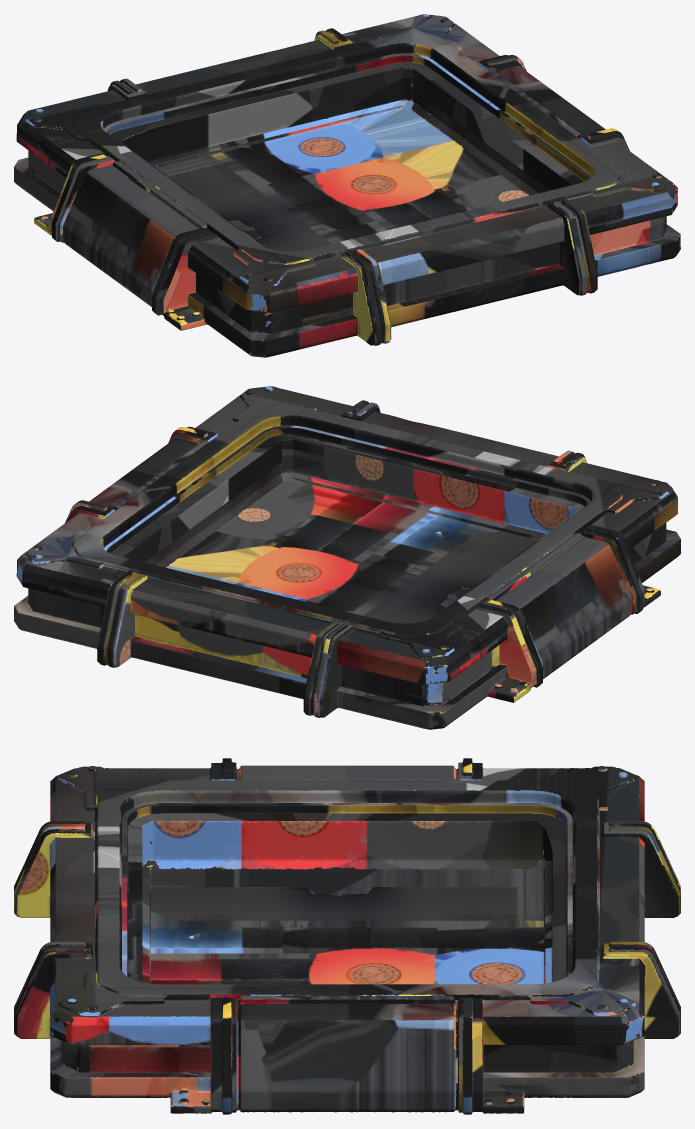
File: air_conditioning.fbx
3 renders of one model, top to bottom at view 1: azimuth 30°, elevation 25°; view 2: azimuth 150°, elevation 25°; view 3: azimuth 270°, elevation 25°, orthographic. The views are drawn at different scales.
Parts seen in each view (by area): view 1: Mesh_0; view 2: Mesh_0; view 3: Mesh_0.
Boxes of the visible parts, x1,y1,x2,y2 form: Mesh_0: (14, 14, 680, 357); Mesh_0: (14, 386, 680, 729); Mesh_0: (14, 758, 680, 1114).
Size of the model in its own units: 190 by 27.41 by 187.
